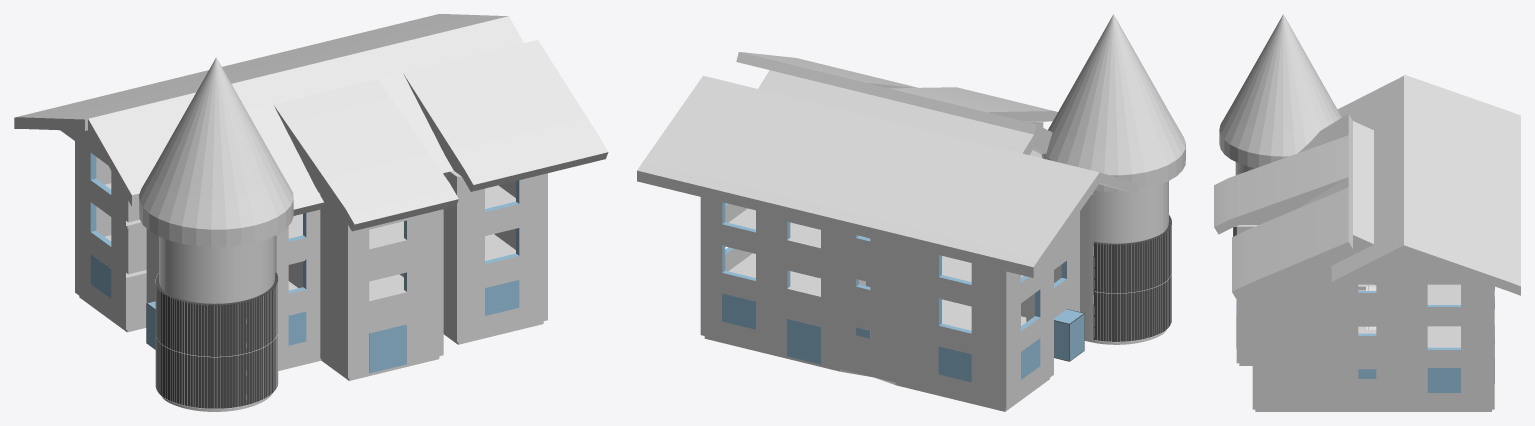
Rendered from CountryHouse3.fbx.
3 renders of one model, left to right at view 1: azimuth 30°, elevation 25°; view 2: azimuth 150°, elevation 25°; view 3: azimuth 270°, elevation 25°, orthographic. The views are drawn at different scales.
Parts seen in each view (by area): view 1: Plane.020, Floor.002, Plane.005, Plane.003, Plane.017, Plane, Plane.018, Plane.007, Baga_Window_Bool9320324, Floor.009, Floor.001, Baga_Window_Bool3171740 (+2 smaller); view 2: Plane.020, Floor.002, Plane.005, Plane.003, Plane.017, Plane, Baga_Window_Bool9320324, Baga_Window_Bool3171740, Plane.018, Plane.007, Floor.001, Floor.009; view 3: Plane.020, Floor.002, Plane.003, Plane.005, Baga_Window_Bool3171740, Floor.009, Floor.001.
Part boxes in pixels (box(x1,y1,x2,y2)): Plane.020: box(14, 14, 608, 274); Floor.002: box(105, 57, 515, 303); Plane.005: box(75, 189, 547, 326); Plane.003: box(75, 241, 547, 378); Plane.017: box(156, 272, 277, 356); Plane: box(156, 336, 277, 408); Plane.018: box(155, 273, 278, 357); Plane.007: box(155, 333, 278, 408); Baga_Window_Bool9320324: box(146, 301, 406, 373); Floor.009: box(79, 296, 543, 411); Floor.001: box(105, 234, 515, 297); Baga_Window_Bool3171740: box(90, 254, 306, 345); Plane.020: box(637, 52, 1137, 312); Floor.002: box(723, 14, 1185, 306); Plane.005: box(700, 238, 1093, 360); Plane.003: box(700, 286, 1093, 409); Plane.017: box(1093, 215, 1171, 293); Plane: box(1093, 275, 1171, 341); Baga_Window_Bool9320324: box(787, 309, 1084, 364); Baga_Window_Bool3171740: box(722, 293, 1040, 382); Plane.018: box(1093, 215, 1171, 293); Plane.007: box(1093, 273, 1171, 342); Floor.001: box(728, 253, 1026, 330); Floor.009: box(704, 330, 1166, 411); Plane.020: box(1214, 74, 1520, 323); Floor.002: box(1219, 14, 1460, 326); Plane.003: box(1236, 320, 1494, 409); Plane.005: box(1236, 291, 1494, 366); Baga_Window_Bool3171740: box(1427, 287, 1494, 392); Floor.009: box(1239, 363, 1491, 411); Floor.001: box(1427, 326, 1460, 347).
Bounding box in the file's own units: 2093 × 1526 × 1555.
